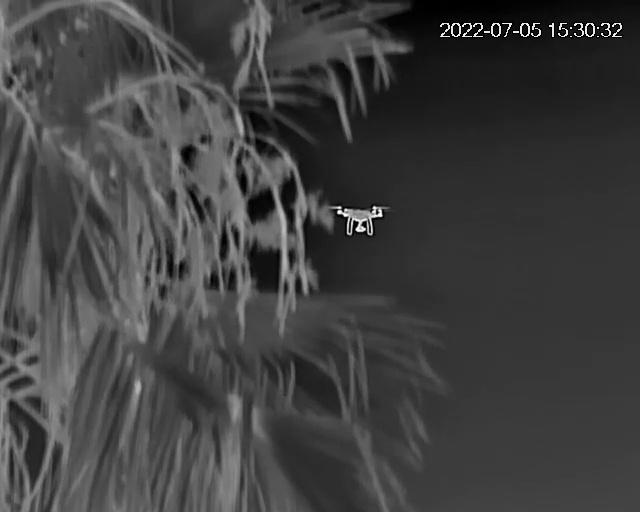DJI-Phantom: (330, 205, 393, 240)
